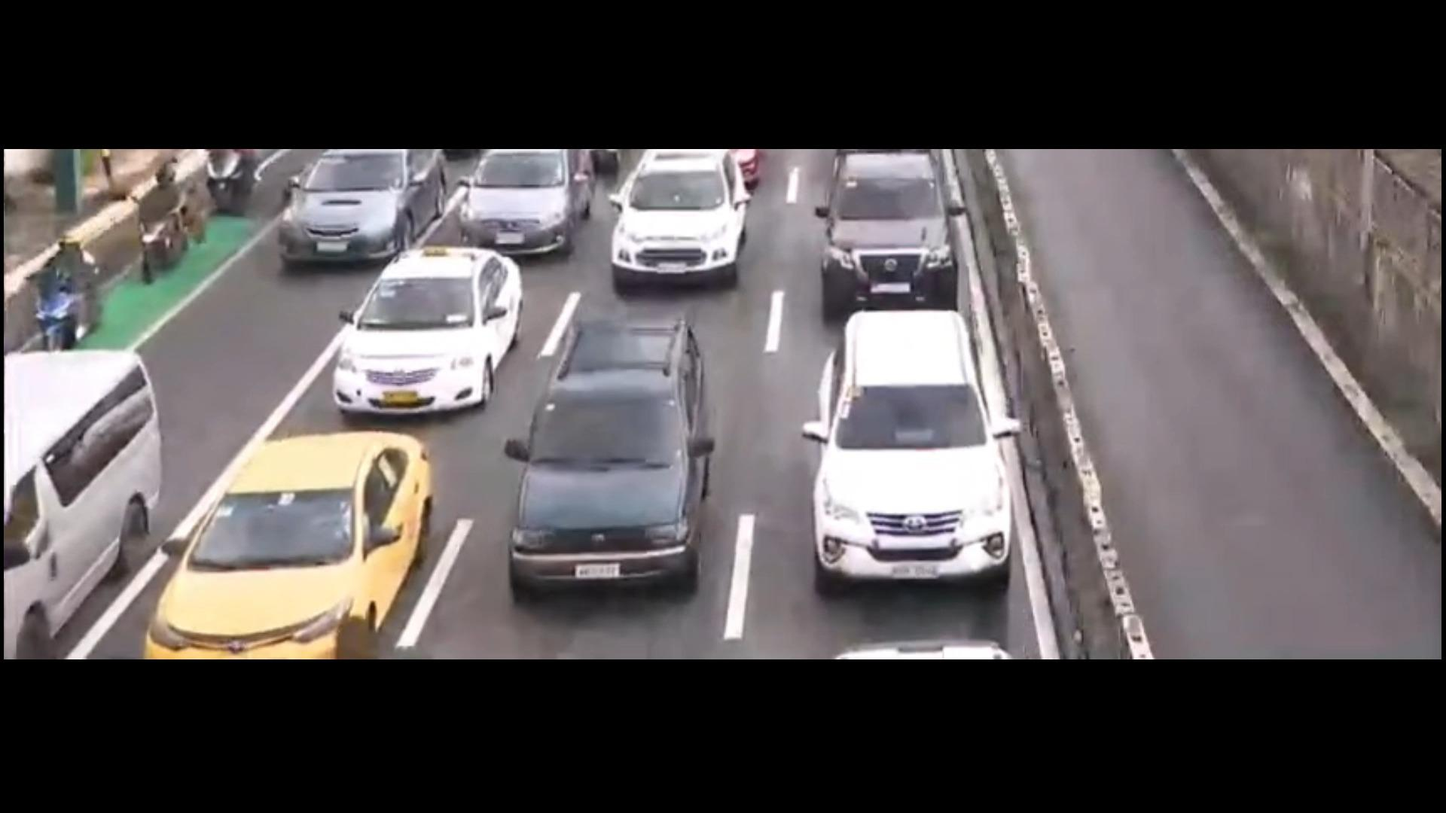Motorcycle: (27, 211, 125, 349), (122, 162, 215, 292), (201, 143, 283, 240)
SUV: (804, 292, 1038, 605), (503, 300, 738, 610), (802, 155, 972, 304)
Sedan: (120, 429, 456, 663), (314, 234, 541, 438), (594, 151, 772, 291), (277, 153, 450, 261), (457, 151, 607, 258)
Van: (0, 345, 177, 670)
